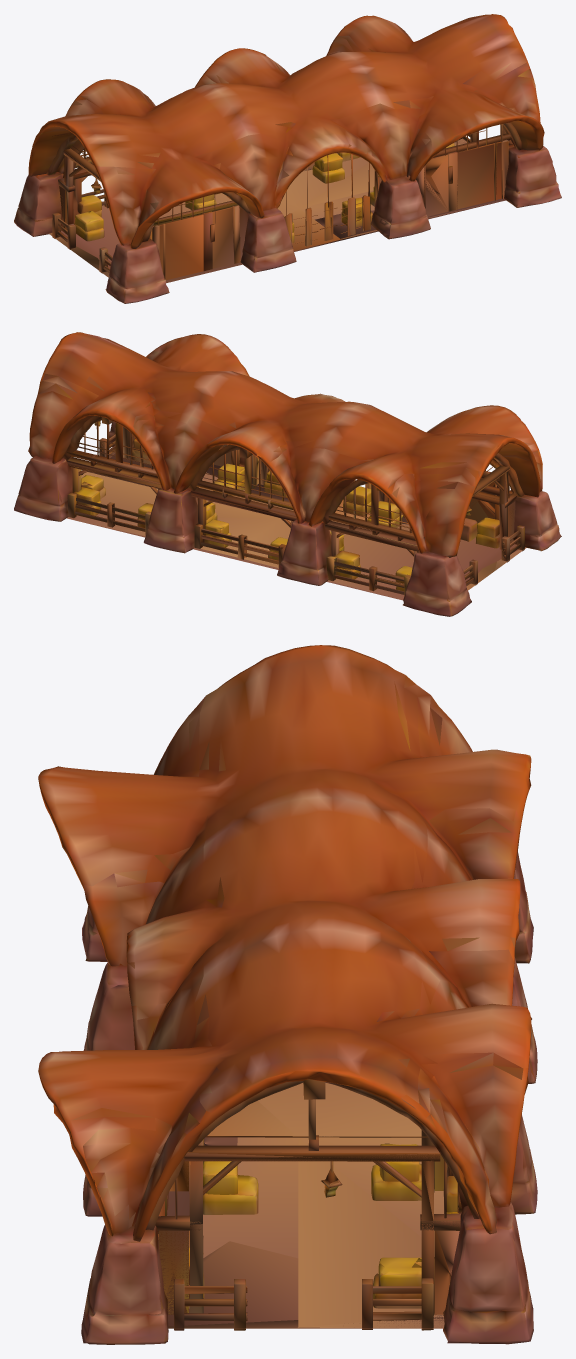
The model's file is preview.glb.
3 renders of one model, top to bottom at view 1: azimuth 30°, elevation 25°; view 2: azimuth 150°, elevation 25°; view 3: azimuth 270°, elevation 25°, orthographic. The views are drawn at different scales.
Parts seen in each view (by area): view 1: Mesh_0; view 2: Mesh_0; view 3: Mesh_0.
Part boxes in pixels (x1=…): Mesh_0: x1=14, y1=14, x2=561, y2=303; Mesh_0: x1=14, y1=332, x2=561, y2=616; Mesh_0: x1=38, y1=645, x2=537, y2=1344.
Size of the model in its own units: 8.31 by 2.48 by 4.08.
